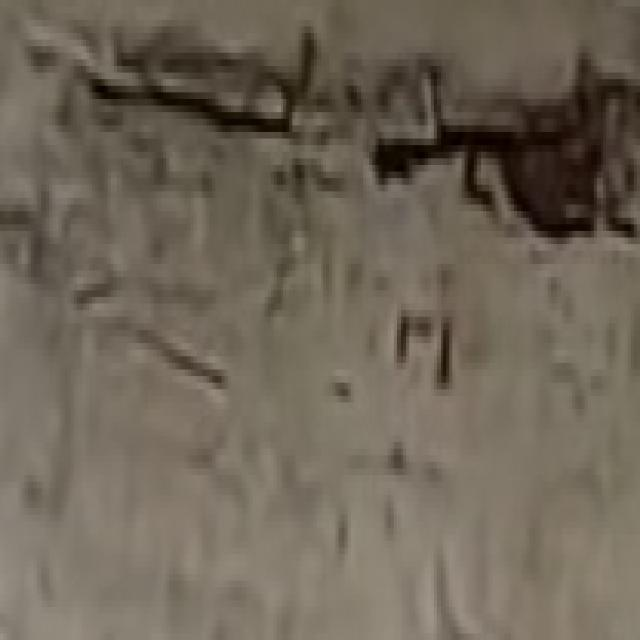crack: (108, 59, 305, 198)
